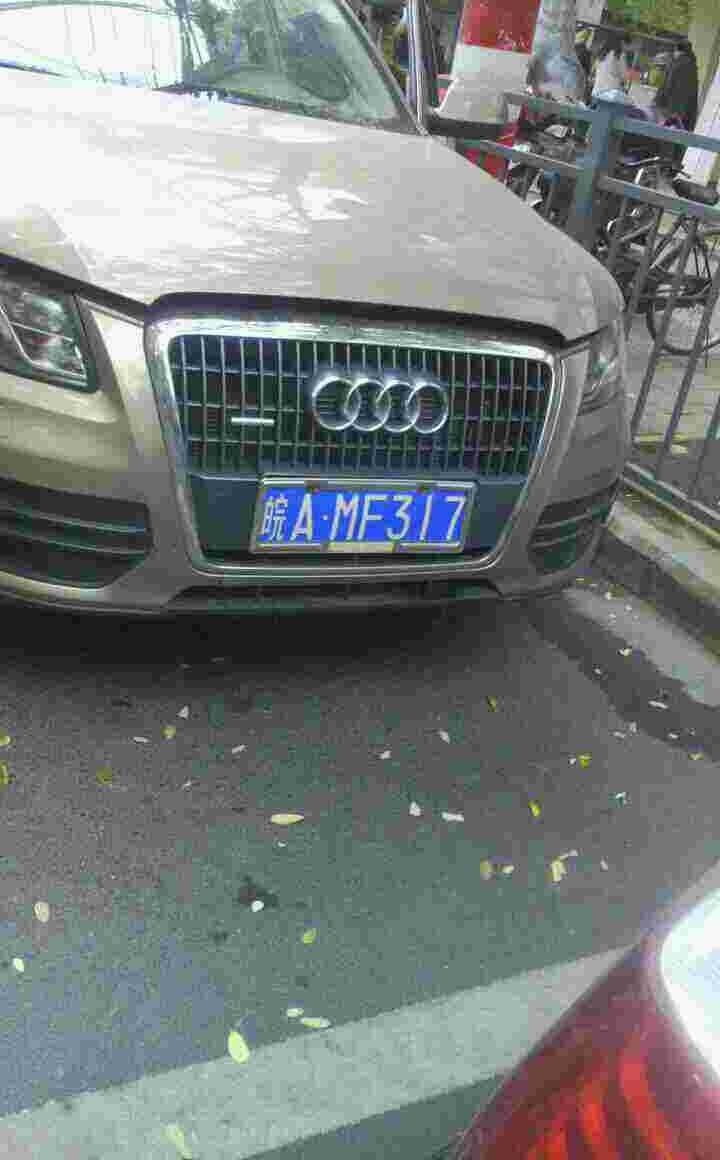license_plate: (267, 485, 462, 543)
